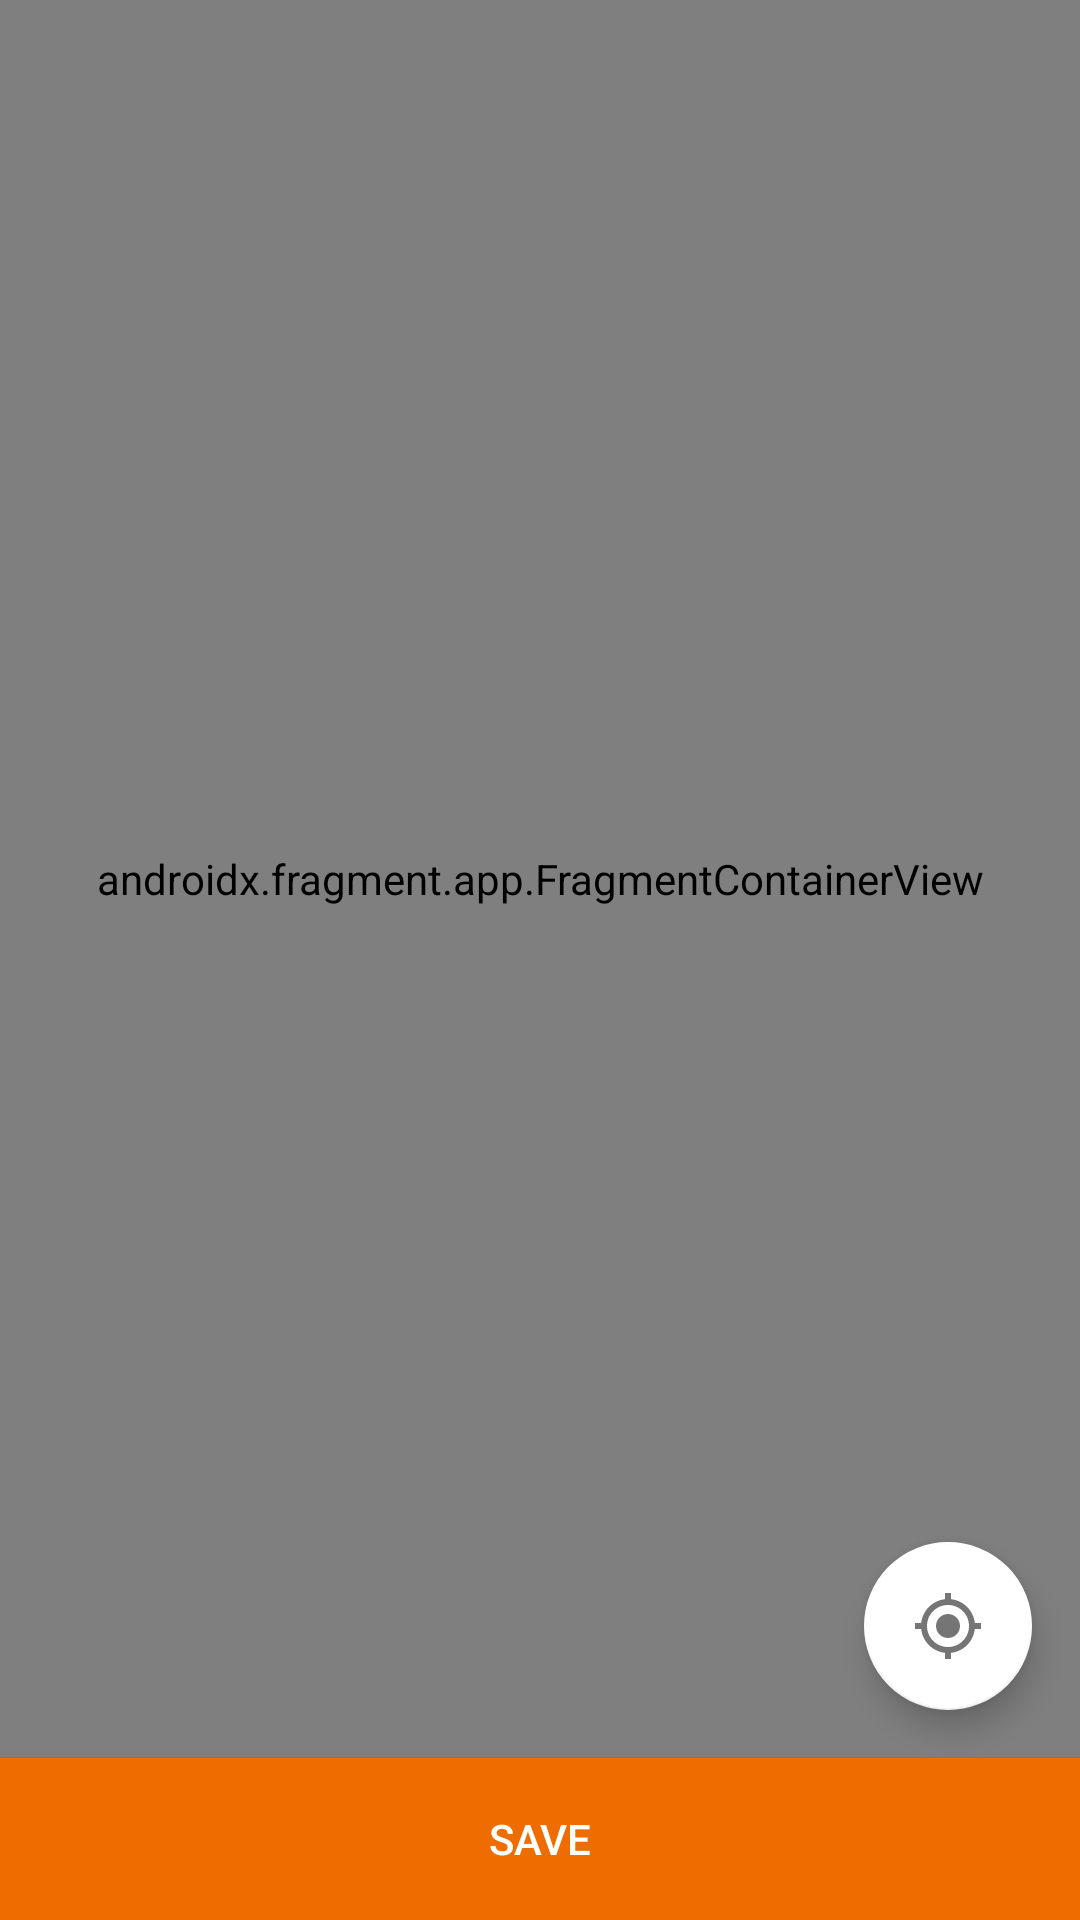

Icons on this 1080×1920 Android screen, each with its box as (x1, y1, x2, y2):
location: (864, 1542, 1032, 1710)
